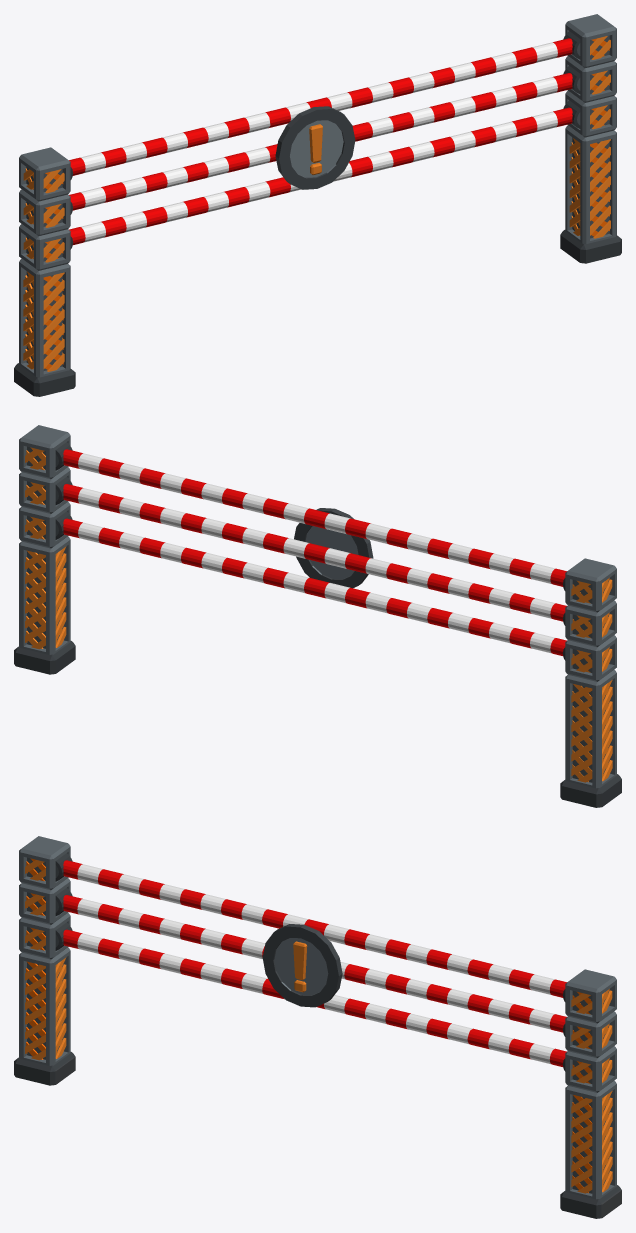
Rendered from TU_Obstacle_Barrier.fbx.
3 renders of one model, top to bottom at view 1: azimuth 30°, elevation 25°; view 2: azimuth 150°, elevation 25°; view 3: azimuth 330°, elevation 25°, orthographic.
Parts seen in each view (by area): view 1: Obstacle_Barrier; view 2: Obstacle_Barrier; view 3: Obstacle_Barrier.
Part boxes in pixels (x1,y1,x2,y2): Obstacle_Barrier: (14, 14, 621, 396); Obstacle_Barrier: (14, 425, 621, 807); Obstacle_Barrier: (14, 836, 621, 1218).
Size of the model in its own units: 487 by 179 by 34.68.
